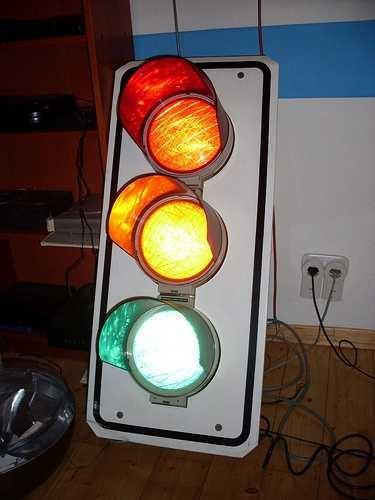green: (98, 290, 221, 409)
